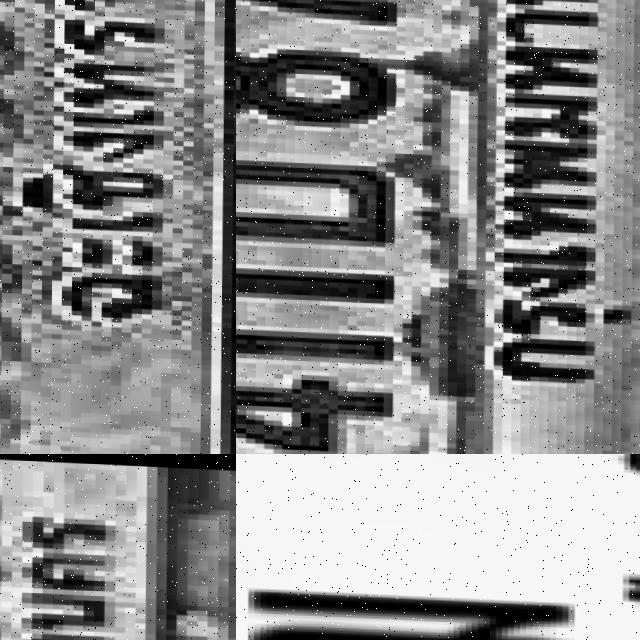license-plate: (236, 0, 640, 454), (0, 0, 227, 454), (236, 454, 640, 640), (0, 454, 236, 640)
